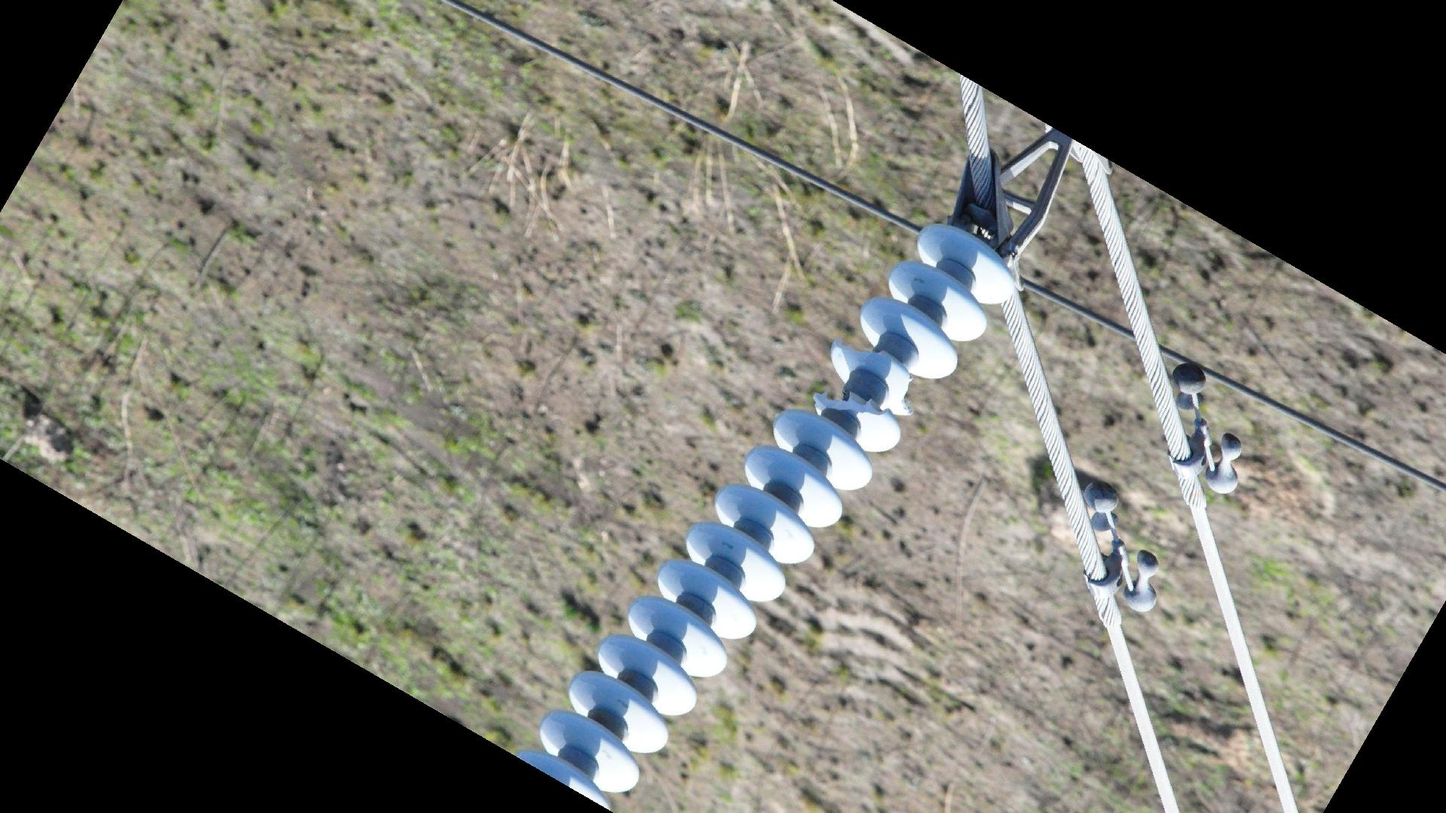insulator: (510, 217, 1022, 808)
insulator_breakage: (805, 387, 898, 424), (824, 336, 894, 364), (897, 370, 920, 422)
